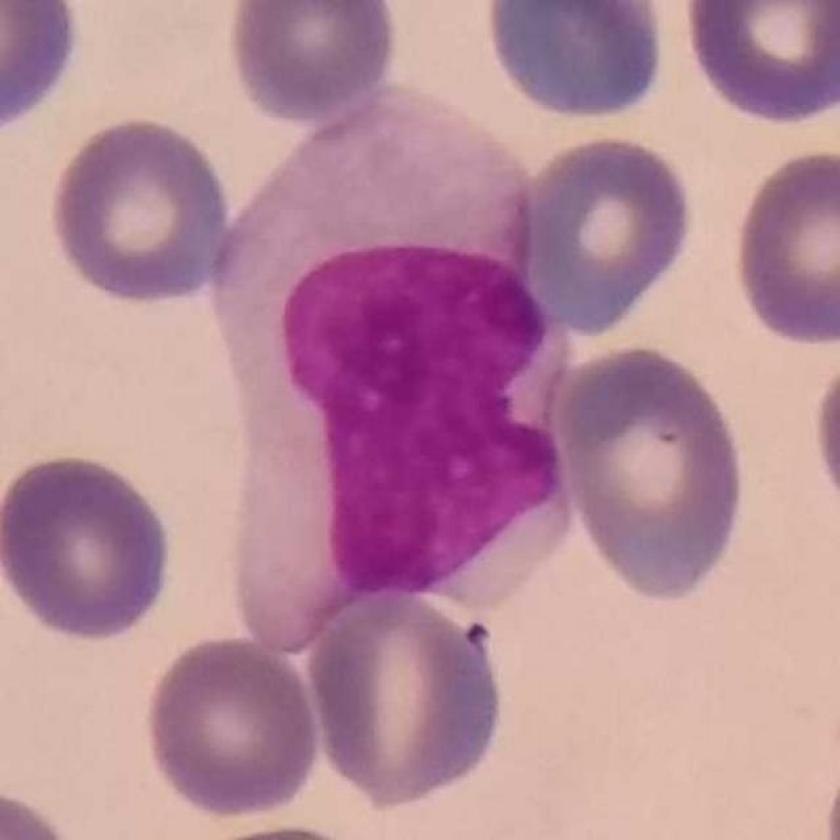monocyte: (198, 63, 577, 663)
